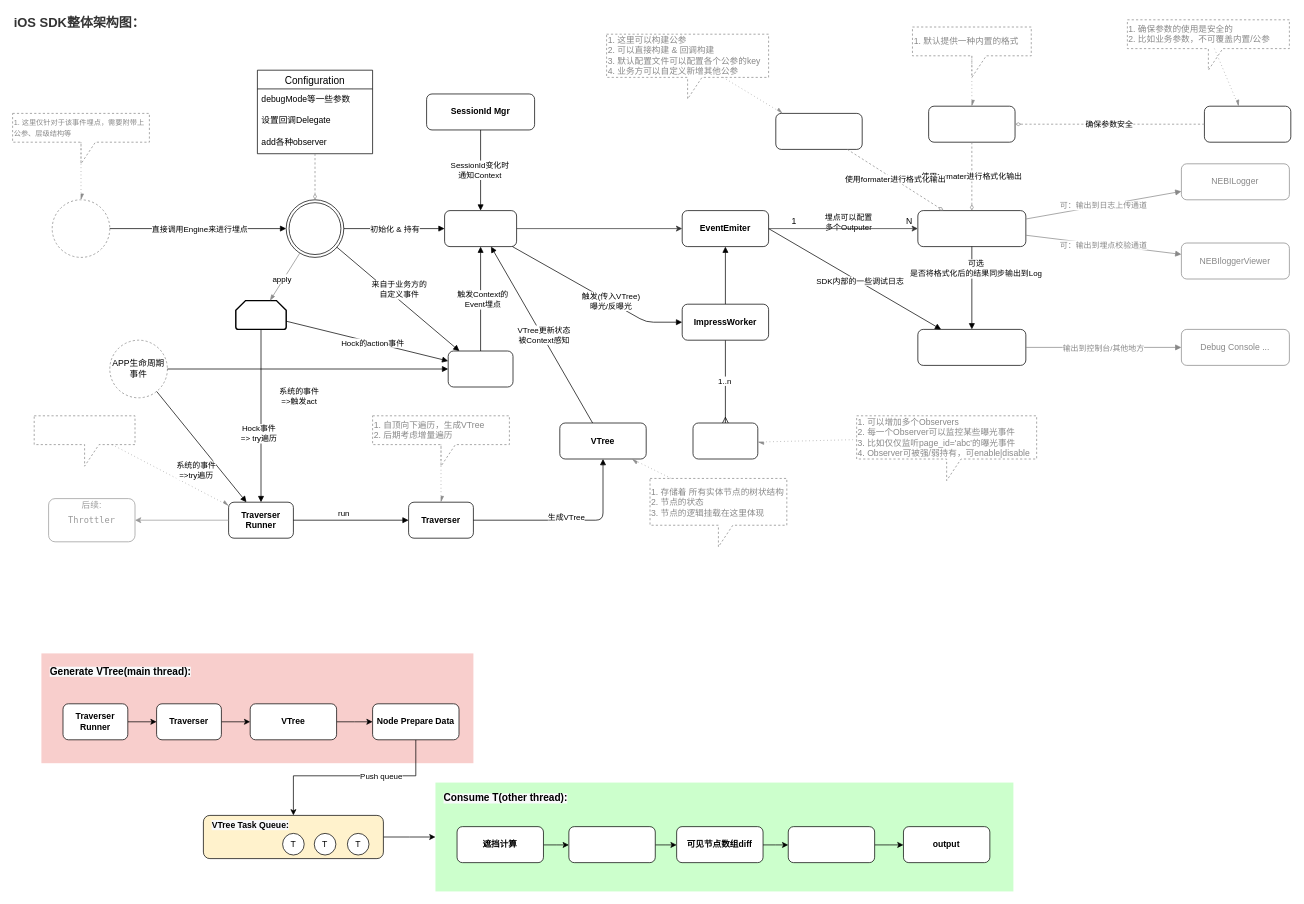
The diagram is 1304 pixels wide and 904 high, and some of its shapes have lost their labels. The centre of each missing label's shape, as x and y in pixels:
"1. Runloop的observer 2. 一些hock事件触发" goes at pixel 84 440.
"AOP" goes at pixel 261 315.
"Context" goes at pixel 480 228.
"Debug Log Outputer" goes at pixel 971 347.
"Engine" goes at pixel 314 228.
"Event act" goes at pixel 480 368.
"Event Emiter" goes at pixel 971 228.
"Observer" goes at pixel 725 440.
"Output Formater" goes at pixel 971 123.
"Params Guard" goes at pixel 1247 123.
"Public Params Builder" goes at pixel 818 131.
"业务方主动触发一个自定义事件" goes at pixel 80 228.
"曝光/反曝光" goes at pixel 831 844.
"生成可见节点数组" goes at pixel 611 844.
